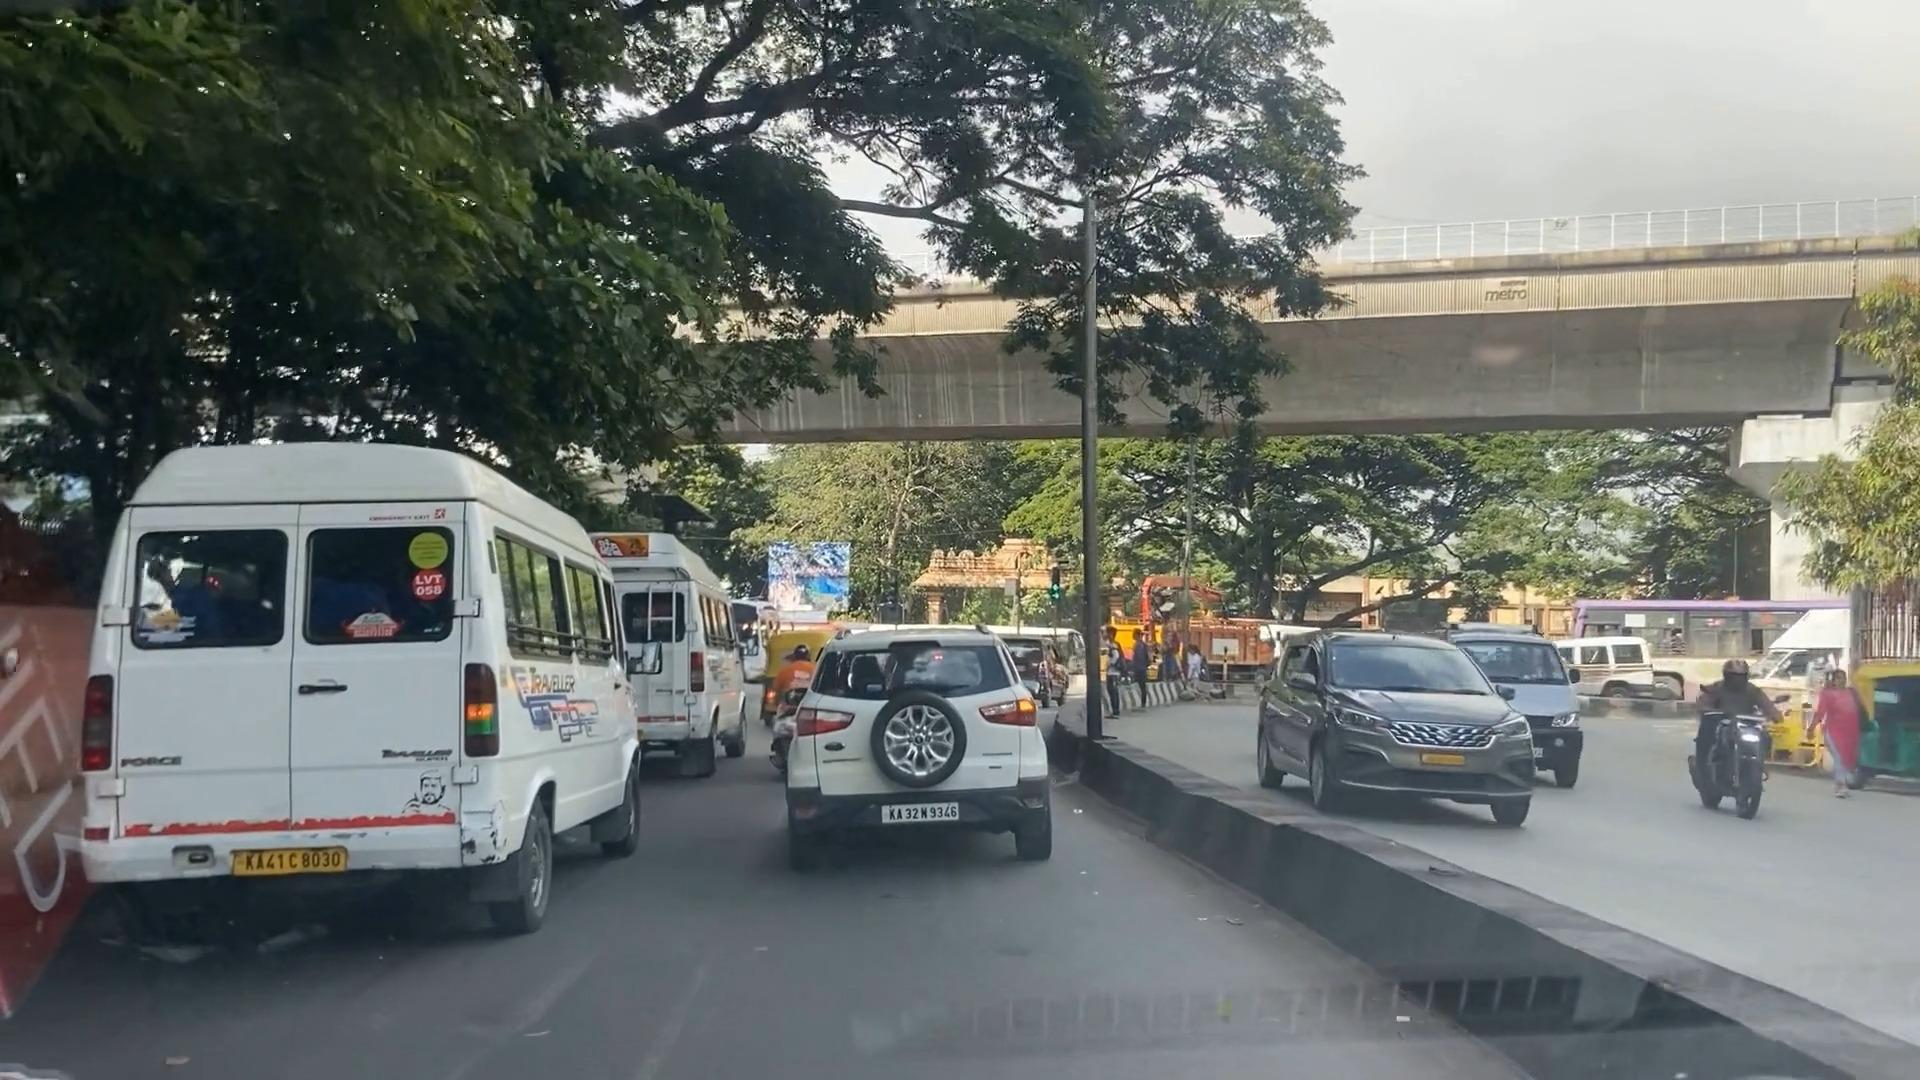HMV: (148, 430, 629, 939), (628, 530, 761, 770)
LMV: (798, 636, 1050, 860)
